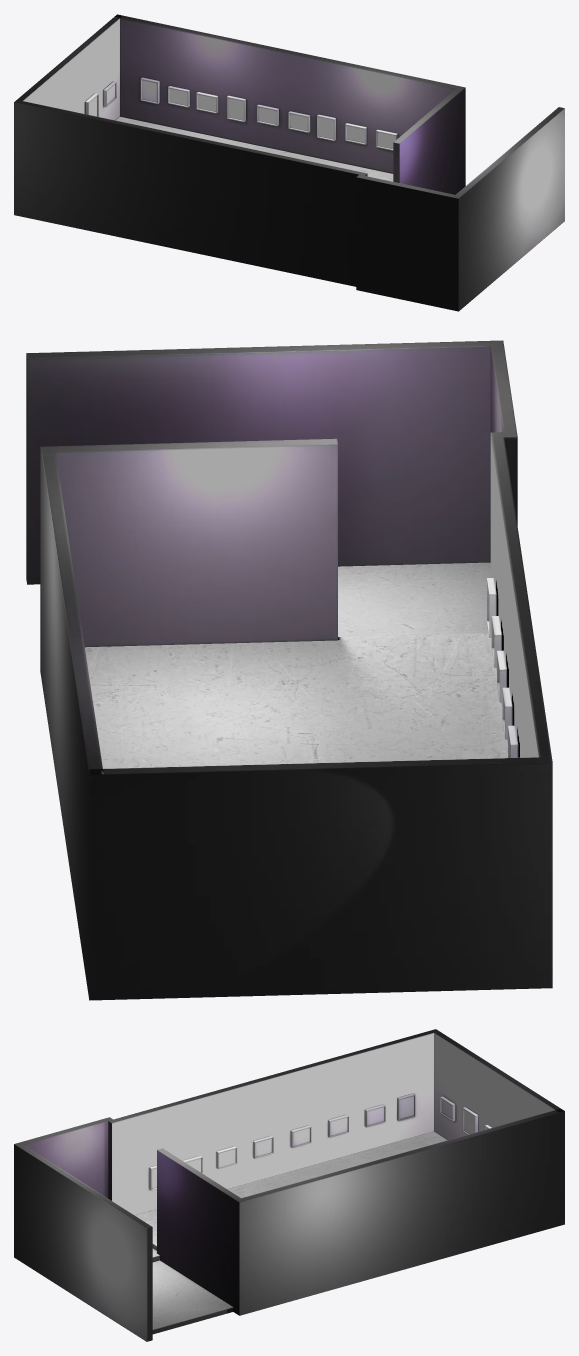
The model's file is ---norwid_interior.glb.
The picture shows the model from 3 angles, top to bottom: view 1: azimuth 30°, elevation 25°; view 2: azimuth 150°, elevation 25°; view 3: azimuth 270°, elevation 25°; orthographic projection. The views are drawn at different scales.
Visible parts, largest first — view 1: walls, FloorNorwid; view 2: walls, FloorNorwid; view 3: walls, FloorNorwid.
Boxes of the visible parts, x1=… form: walls: x1=14, y1=14, x2=564, y2=311; FloorNorwid: x1=115, y1=116, x2=393, y2=181; walls: x1=26, y1=340, x2=552, y2=1000; FloorNorwid: x1=85, y1=562, x2=507, y2=768; walls: x1=14, y1=1029, x2=564, y2=1341; FloorNorwid: x1=135, y1=1131, x2=447, y2=1334.
Size of what is drawn, in the model's own units: 6.56 by 1.74 by 7.66.
Materials: 2 (2 with a texture image).
